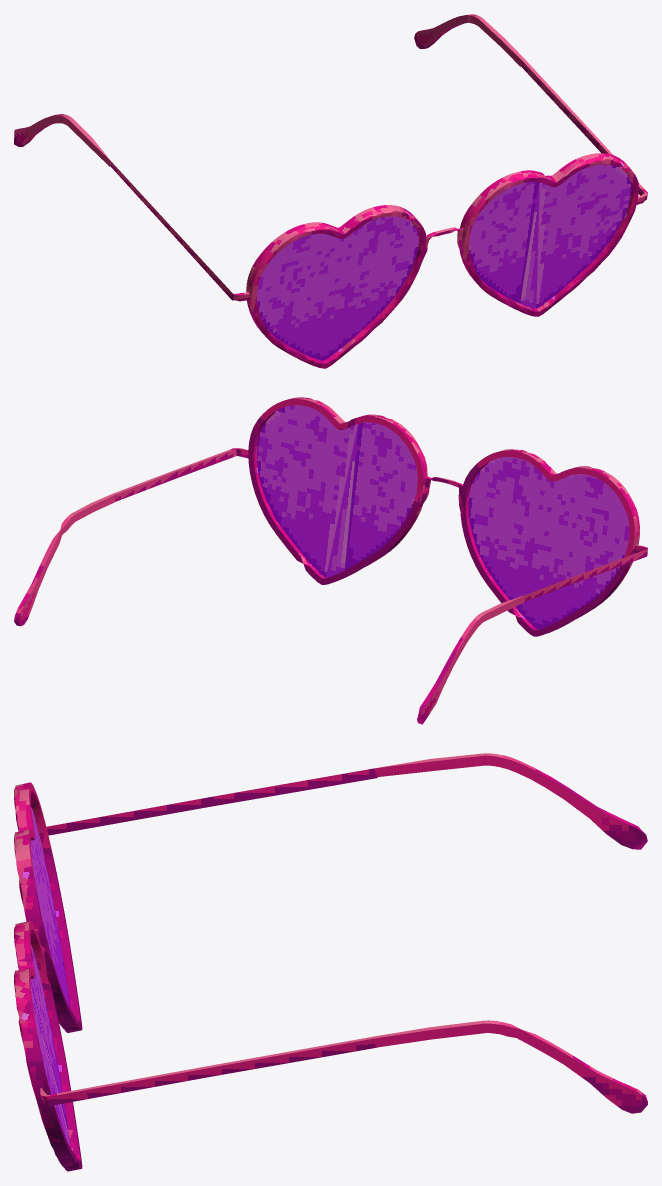
Rendered from wear_heartpink.glb.
3 views of the same model, one above another, from view 1: azimuth 30°, elevation 25°; view 2: azimuth 150°, elevation 25°; view 3: azimuth 270°, elevation 25° (orthographic). The views are drawn at different scales.
Parts seen in each view (by area): view 1: mesh; view 2: mesh; view 3: mesh.
Boxes of the visible parts, x1,y1,x2,y2 form: mesh: (14,14,647,368); mesh: (14,397,647,724); mesh: (14,753,647,1171).
Bounding box in the file's own units: 0.1595 × 0.06 × 0.1574.
Materials: 1 (1 with a texture image).
